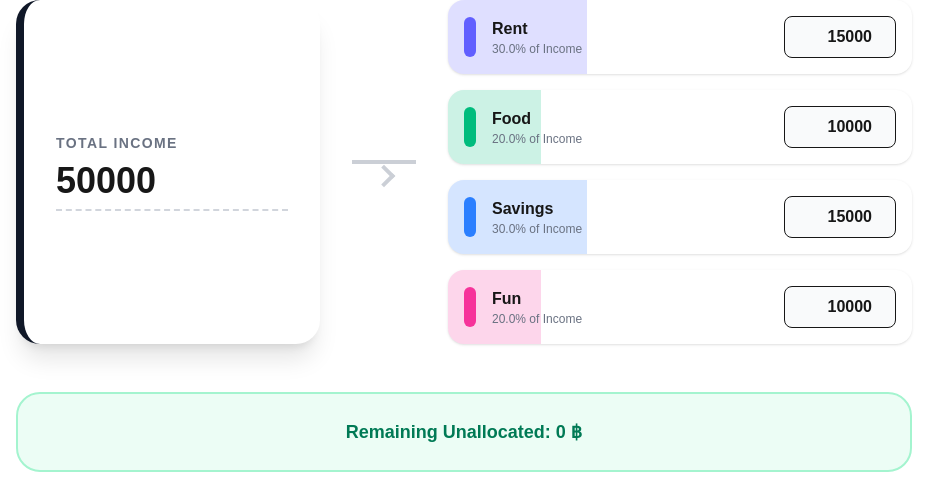
Scenario: Cash Flow Micro-App › Flow Component › should recalculate remaining unallocated when income changes
The image size is (929, 489).
Replace the text in the number field below "Total Income" with "70000" at (172, 186), box [56,161,288,211]
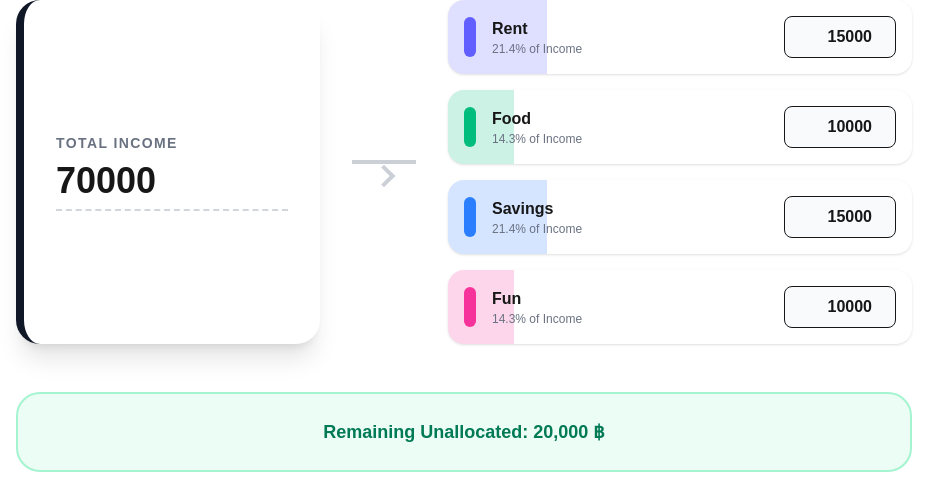
Expected: the text "Remaining Unallocated: 20,000 ฿" is shown, [16,392,912,472]
